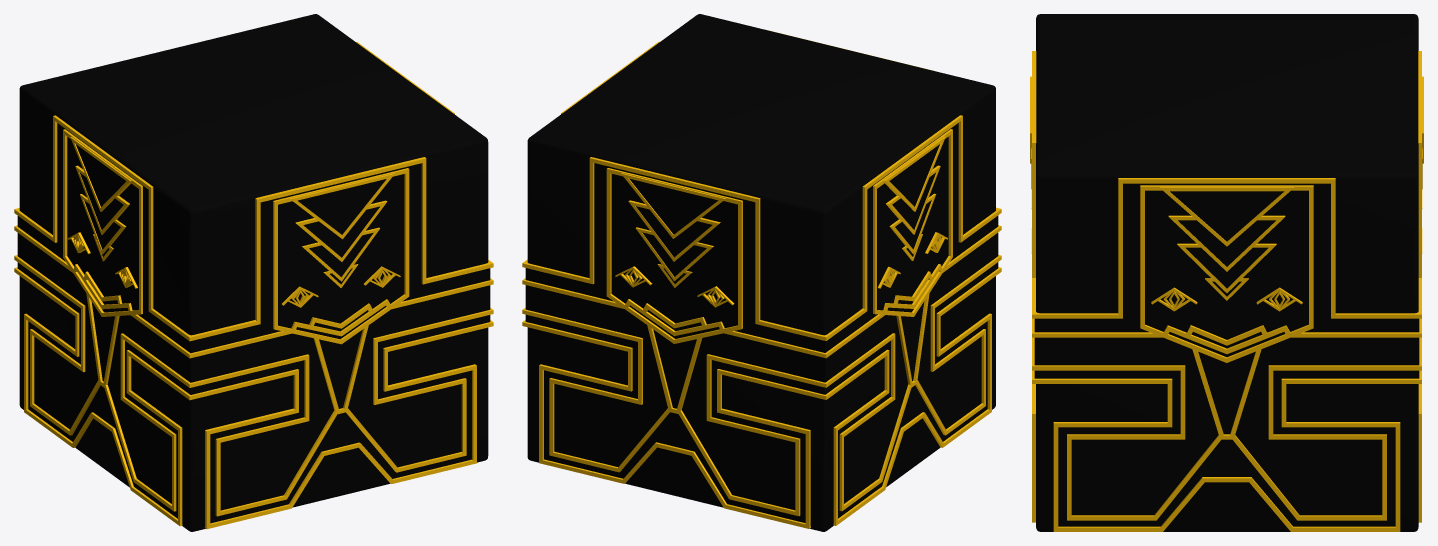
The model's file is totem3.fbx.
3 renders of one model, left to right at view 1: azimuth 30°, elevation 25°; view 2: azimuth 150°, elevation 25°; view 3: azimuth 270°, elevation 25°, orthographic. The views are drawn at different scales.
Visible parts, largest first — view 1: Line1045465; view 2: Line1045465; view 3: Line1045465.
Part boxes in pixels (x1,y1,x2,y2): Line1045465: (14, 14, 493, 531); Line1045465: (522, 14, 1001, 531); Line1045465: (1030, 14, 1423, 531).
Size of the model in its own units: 1688 by 1696 by 1688.
